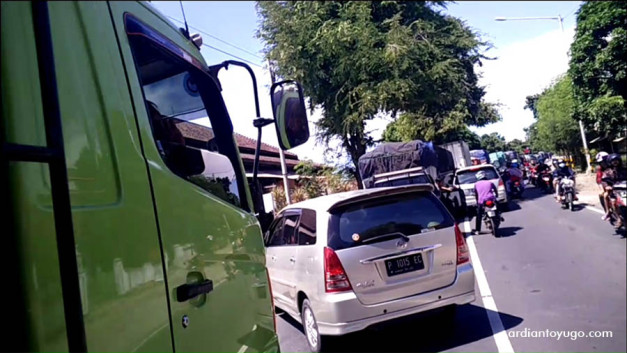plate: (387, 250, 421, 277)
